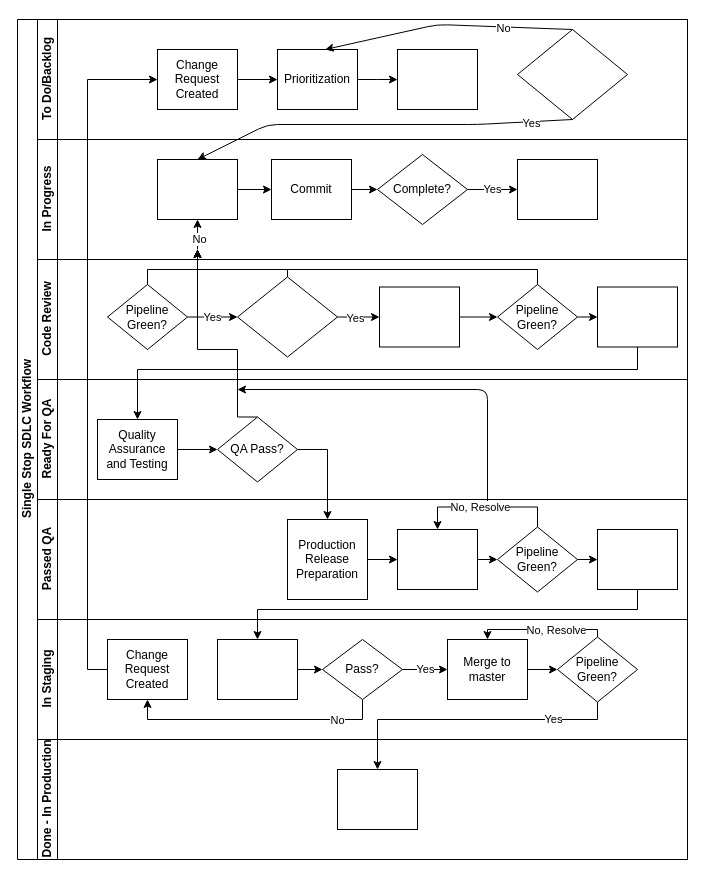
Image size: 705x877. Some labels were removed from this diagram. Here are the shapes that lost their labels. From the top down, the centre of each, then its label:
the point at 437,79: Sprint Planning
the point at 572,74: Assign to sprint?
the point at 197,189: Local Branch Development
the point at 557,189: Create Pull Request
the point at 287,316: Code Review Pass?
the point at 419,316: Merged to develop branch
the point at 637,316: Deploy to develop env
the point at 437,559: Merge develop to release candidate
the point at 637,559: Deploy to staging env
the point at 257,669: Regression Testing
the point at 377,799: Deploy to production
